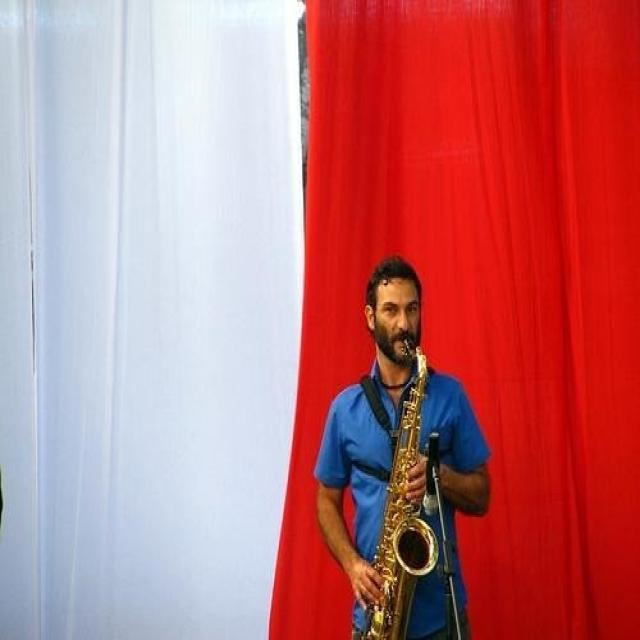saxophone: (346, 334, 440, 640)
